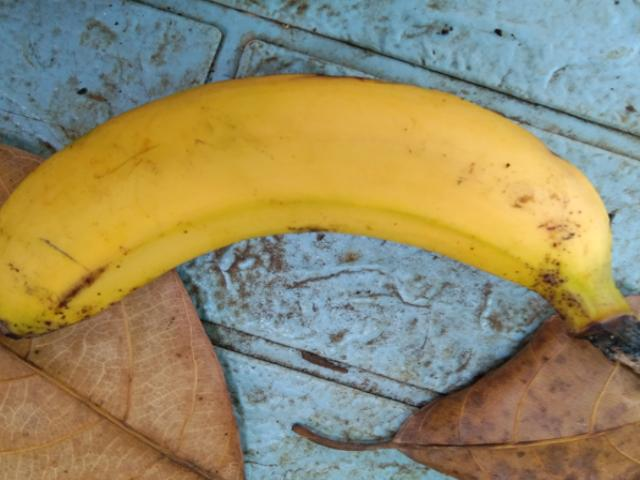freshripe: (7, 71, 610, 326)
